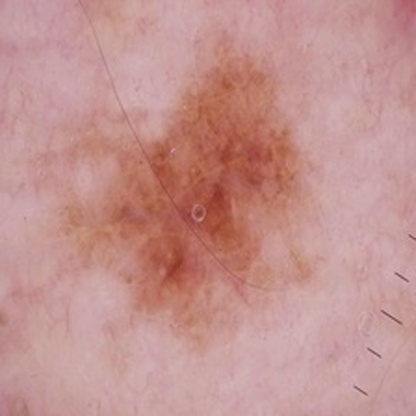benign: (97, 71, 304, 301)
